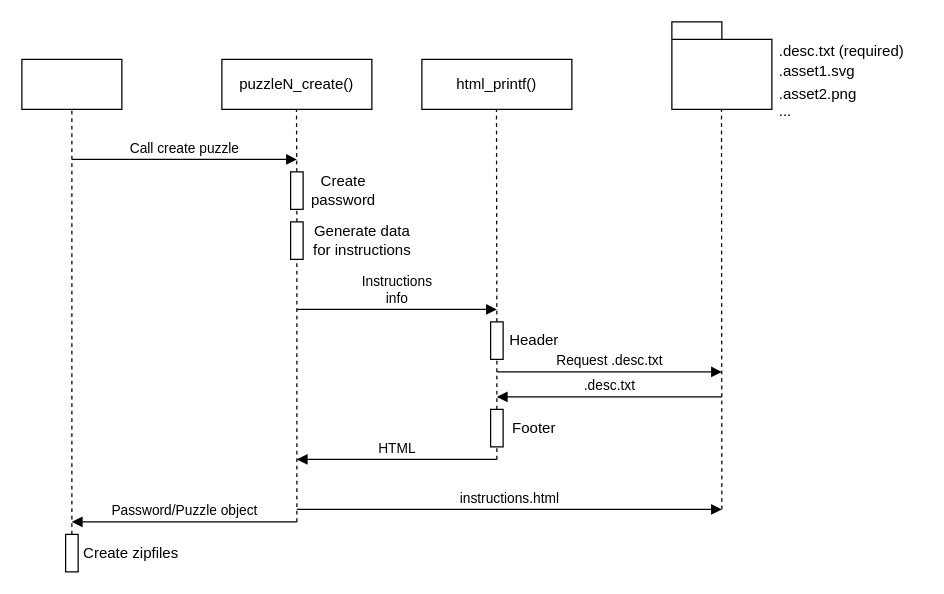
Image size: 944x594. Some labels were removed from this diagram. Each missing label, with the box of its shape:
files-puzzleN: (671, 21, 772, 109)
main(): (21, 58, 122, 109)
